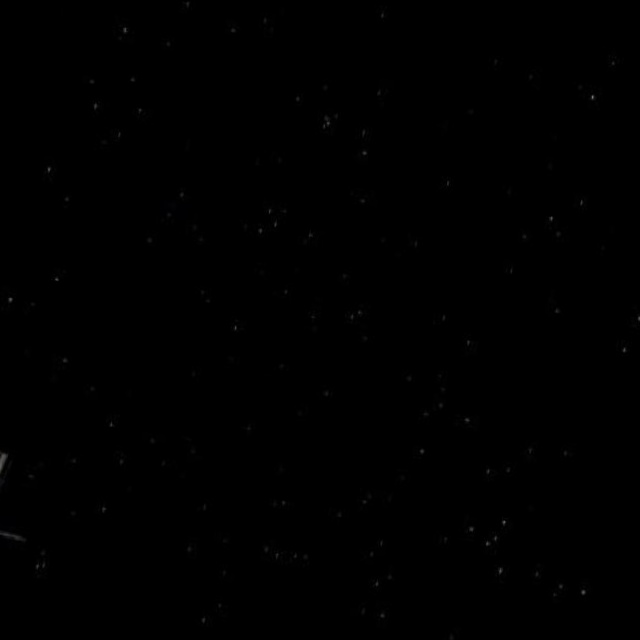medium_debris: (0, 446, 43, 556)
